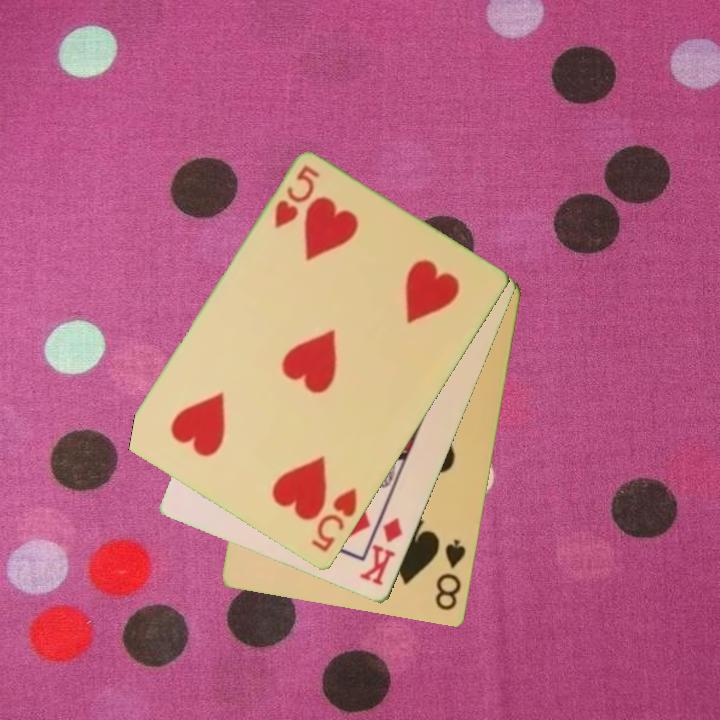5h: (308, 484, 361, 556), (271, 162, 323, 232)
8s: (432, 536, 469, 614)
Kd: (356, 514, 406, 589)
